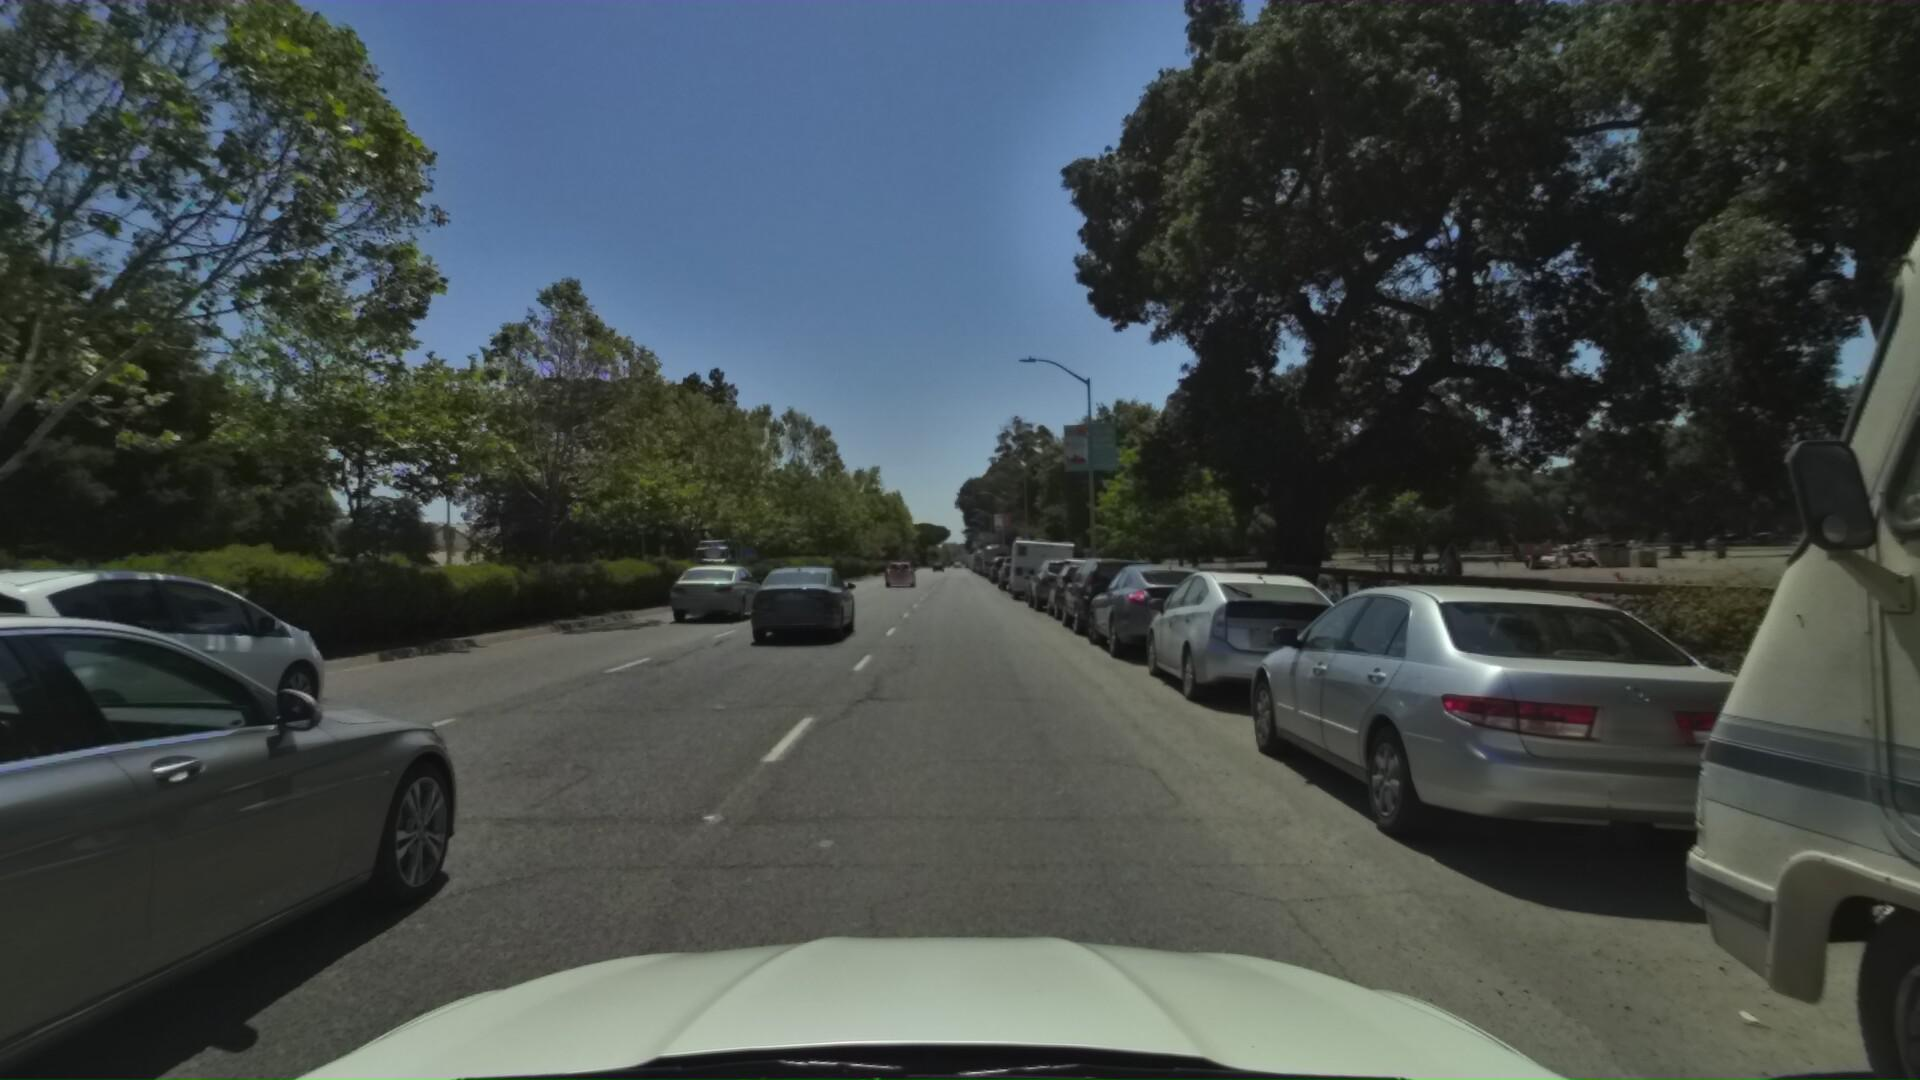car: (1233, 545, 1920, 964), (0, 555, 502, 1080), (0, 537, 375, 796), (1133, 546, 1393, 721), (1077, 545, 1255, 673), (1054, 538, 1174, 642), (742, 555, 862, 645), (1040, 541, 1130, 621), (667, 556, 771, 621), (1025, 542, 1098, 605), (1022, 551, 1077, 600), (994, 545, 1042, 592), (884, 554, 916, 584), (986, 547, 1018, 576)
other_vehicle: (1004, 522, 1080, 597)
truck: (675, 527, 764, 556)
